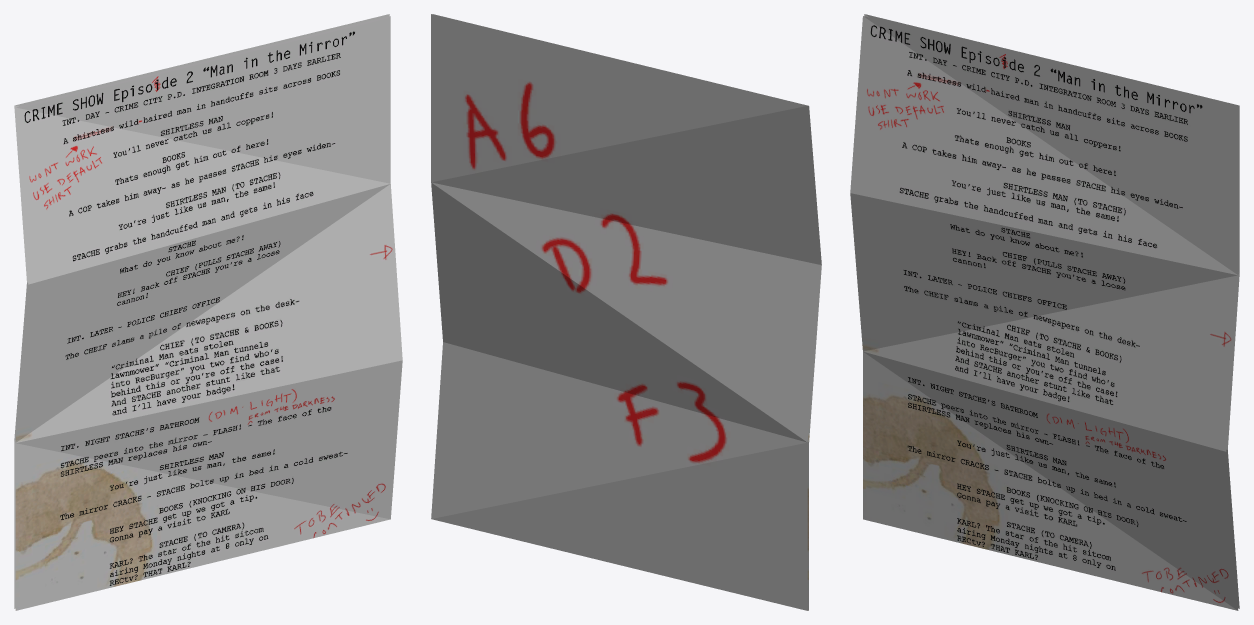
Rendered from crime show 2.glb.
3 views of the same model, side by side, from view 1: azimuth 30°, elevation 25°; view 2: azimuth 150°, elevation 25°; view 3: azimuth 330°, elevation 25° (orthographic).
Parts seen in each view (by area): view 1: Hunter Note; view 2: Hunter Note; view 3: Hunter Note.
Boxes of the visible parts, bbox=[...] form: Hunter Note: bbox=[14, 14, 402, 610]; Hunter Note: bbox=[431, 14, 821, 610]; Hunter Note: bbox=[850, 14, 1239, 610].
Bounding box in the file's own units: 0.2631 × 0.3378 × 0.0171.
1 material, 1 textured.
